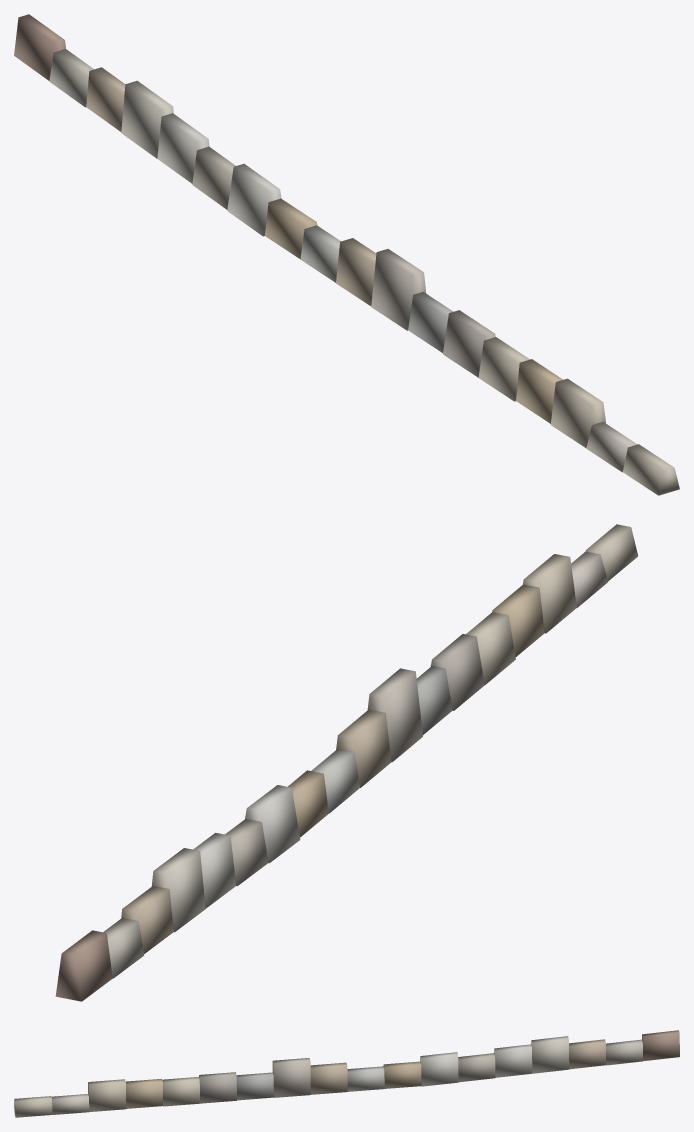
Rendered from farm_14_25_collision.glb.
3 renders of one model, top to bottom at view 1: azimuth 30°, elevation 25°; view 2: azimuth 150°, elevation 25°; view 3: azimuth 270°, elevation 25°, orthographic. The views are drawn at different scales.
Parts seen in each view (by area): view 1: geometry_0; view 2: geometry_0; view 3: geometry_0.
Part boxes in pixels (x1,y1,x2,y2): geometry_0: (14,14,679,495); geometry_0: (55,524,637,1001); geometry_0: (14,1030,679,1117).
Size of the model in its own units: 3.37 by 2.66 by 28.66.
